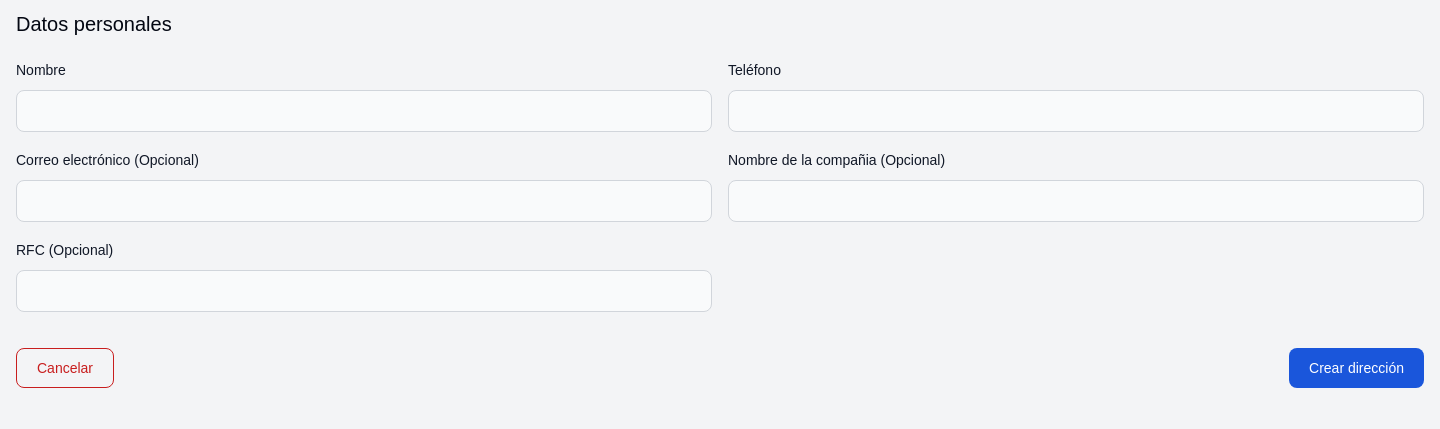
Test: Feature: Add Personal Information GE Subform › Error validation › Given the user enters an invalid phone, When validation fails, Then it should display appropriate error
The image size is (1440, 429).
Type "123" into the field with test id "phone".
click(1076, 111); type("123")  # box [728,90,1424,132]
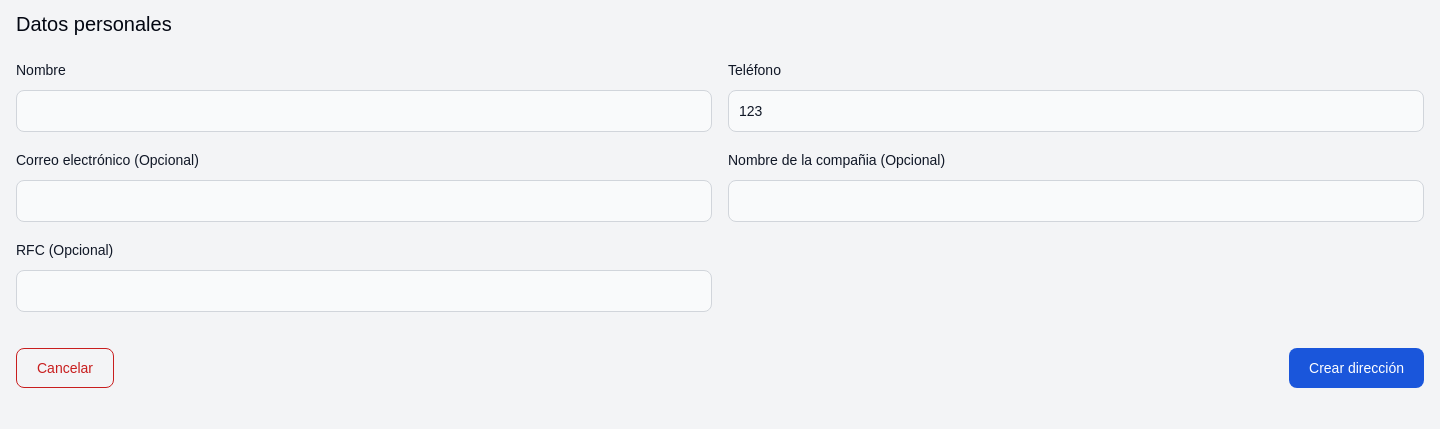
Click the button with test id "submit-button-create-address-ge".
click(1357, 368)  # box [1289,348,1424,388]
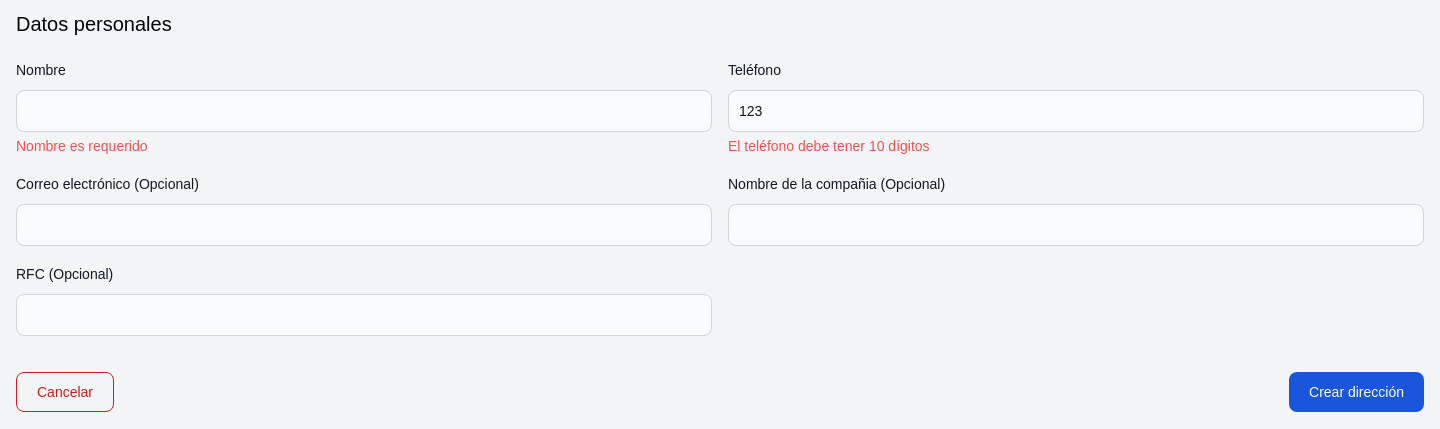
Expected: the text "El teléfono debe tener 10 dígitos" is shown, [728,138,930,154]
